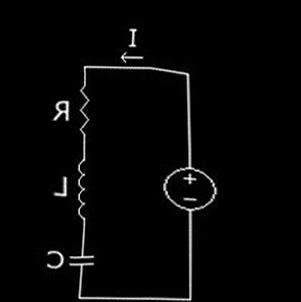Battery: (154, 151, 228, 226)
